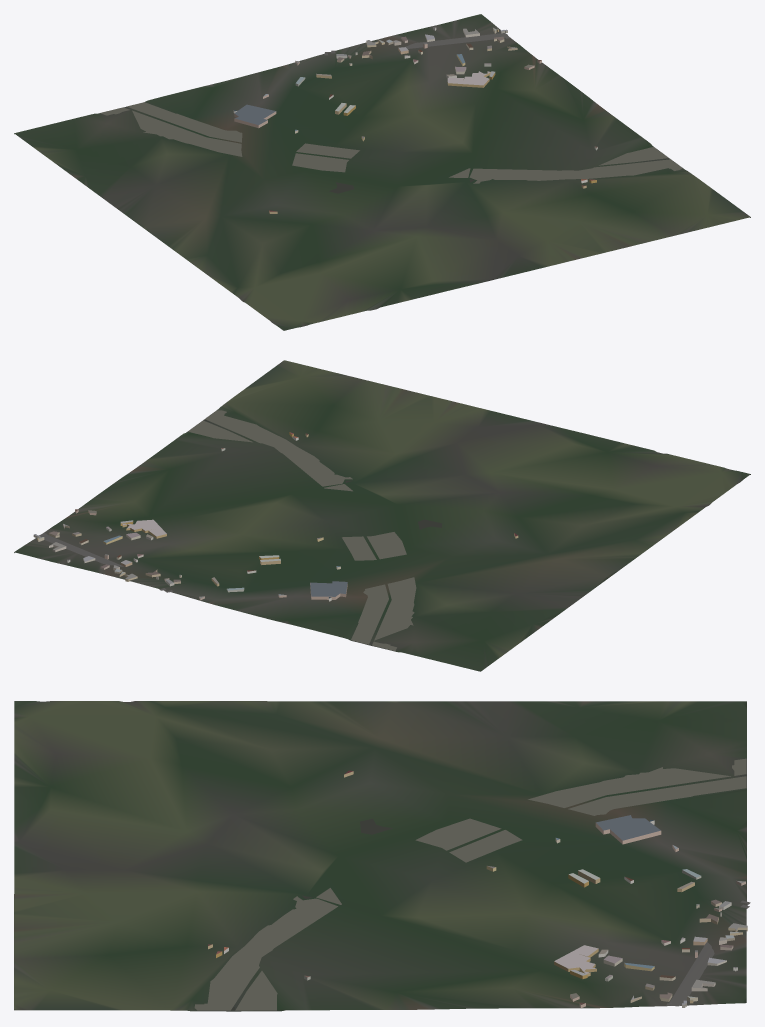
3 renders of one model, top to bottom at view 1: azimuth 30°, elevation 25°; view 2: azimuth 150°, elevation 25°; view 3: azimuth 270°, elevation 25°, orthographic. The views are drawn at different scales.
Visible parts, largest first — view 1: ground, water, buildings, roads; view 2: ground, water, buildings; view 3: ground, water, buildings, roads.
Boxes of the visible parts, x1,y1,x2,y2 form: ground: [14, 14, 750, 330]; water: [100, 102, 682, 193]; buildings: [233, 27, 597, 213]; roads: [324, 33, 509, 55]; ground: [14, 360, 750, 671]; water: [188, 410, 442, 650]; buildings: [33, 432, 518, 601]; ground: [14, 701, 746, 1011]; water: [194, 758, 746, 1010]; buildings: [208, 770, 747, 1008]; roads: [666, 900, 750, 1006].
Size of the model in its own units: 1408 by 26.4 by 1409.
